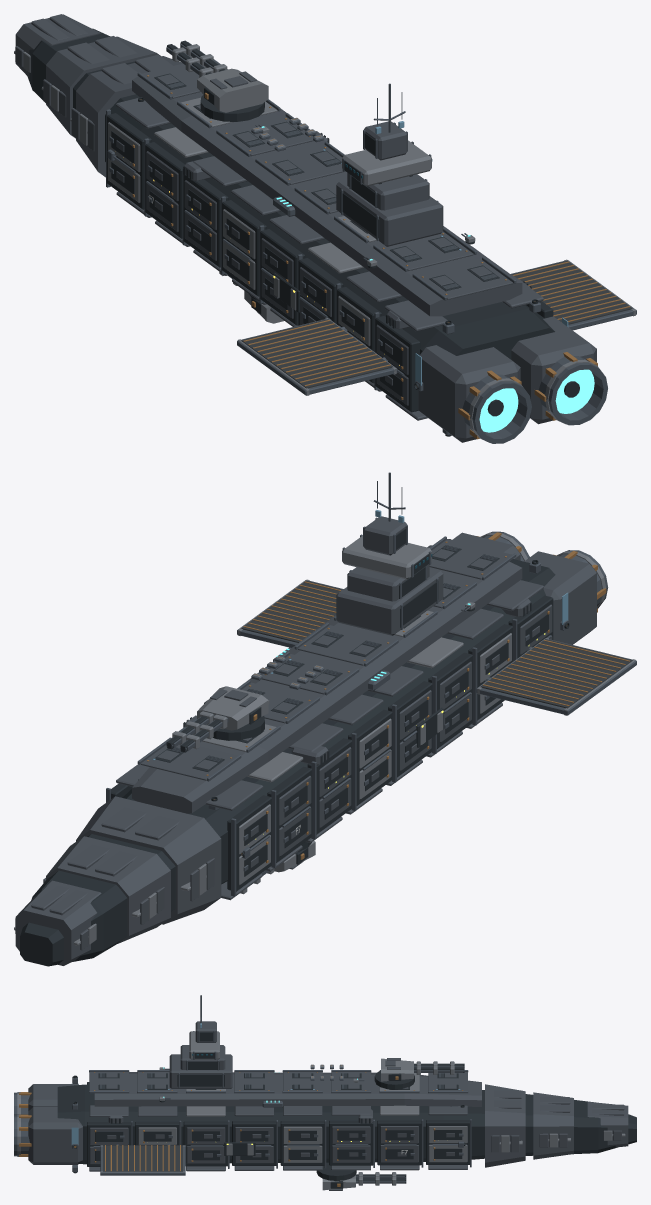
Rendered from escort.glb.
3 views of the same model, one above another, from view 1: azimuth 30°, elevation 25°; view 2: azimuth 150°, elevation 25°; view 3: azimuth 270°, elevation 25° (orthographic). The views are drawn at different scales.
Visible parts, largest first — view 1: FleetHull, mesh_turret_gun_1, mesh_recoil_gun_1; view 2: FleetHull, mesh_turret_gun_1, mesh_recoil_gun_1; view 3: FleetHull, mesh_turret_gun_1, mesh_recoil_gun_1, mesh_recoil_gun_2, mesh_turret_gun_2.
Part boxes in pixels (<box>): FleetHull: <box>14,14,636,443</box>; mesh_turret_gun_1: <box>197,68,268,112</box>; mesh_recoil_gun_1: <box>166,40,227,77</box>; FleetHull: <box>14,472,636,966</box>; mesh_turret_gun_1: <box>197,686,268,730</box>; mesh_recoil_gun_1: <box>166,711,228,752</box>; FleetHull: <box>14,995,636,1180</box>; mesh_turret_gun_1: <box>381,1058,413,1081</box>; mesh_recoil_gun_1: <box>414,1061,464,1074</box>; mesh_recoil_gun_2: <box>356,1172,406,1185</box>; mesh_turret_gun_2: <box>322,1175,355,1190</box>.
Size of the model in its own units: 122 by 109 by 322.
